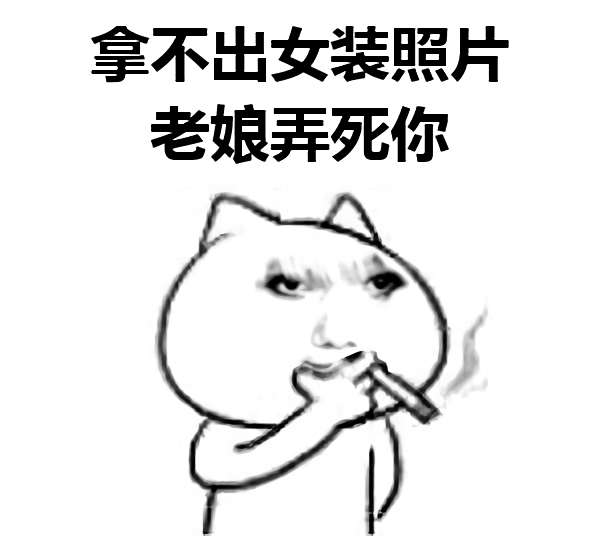dragon: (256, 258, 411, 372)
